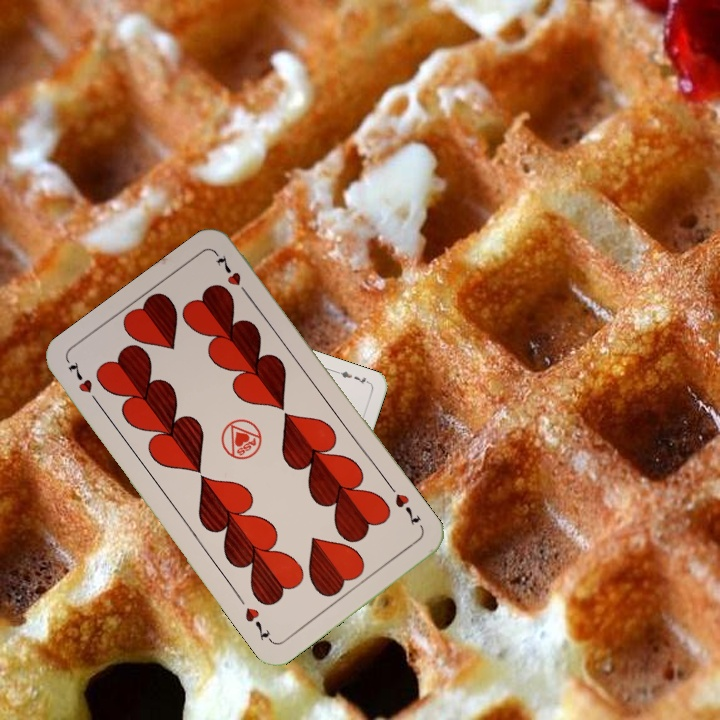E7: (333, 367, 372, 387)
H7: (64, 357, 104, 409), (390, 489, 423, 529)
